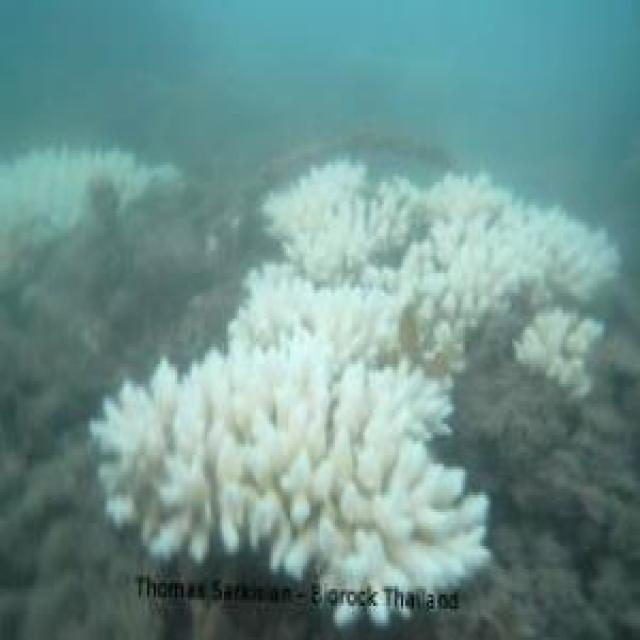bleached coral: (96, 263, 489, 589), (424, 177, 618, 326), (348, 370, 452, 583), (265, 162, 409, 288), (316, 492, 480, 589), (0, 150, 182, 234), (277, 165, 386, 284), (113, 381, 181, 538), (226, 302, 331, 381), (514, 307, 604, 384), (446, 185, 529, 256), (535, 210, 617, 279), (0, 165, 81, 228), (207, 393, 282, 461), (388, 302, 454, 378), (388, 210, 425, 256)
